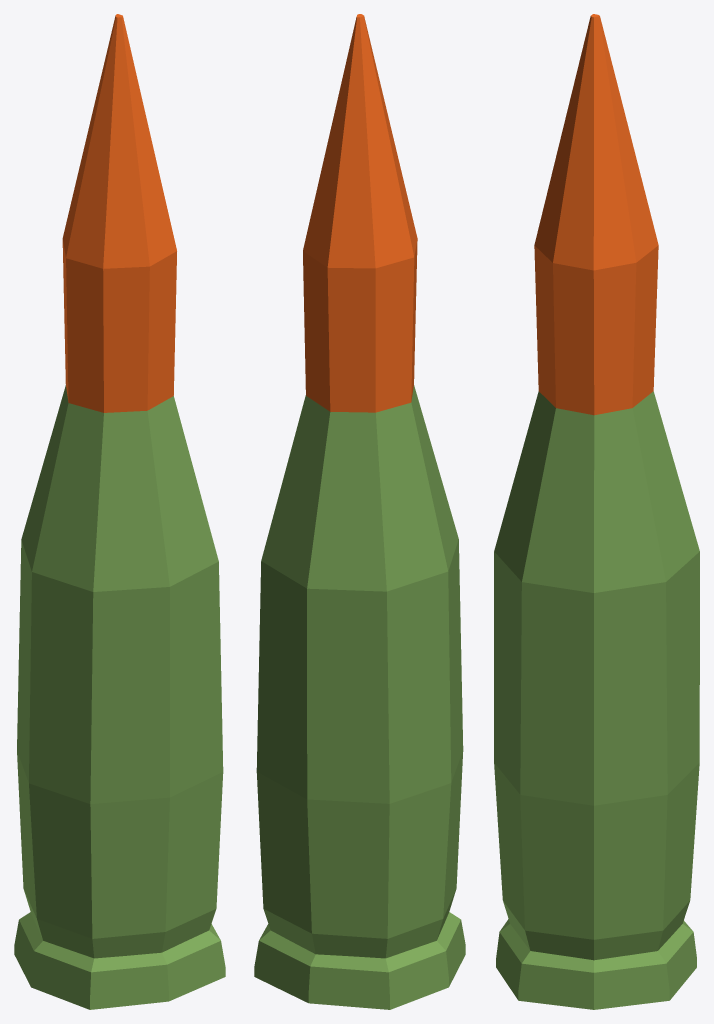
The model's file is machinegunbullet.fbx.
The picture shows the model from 3 angles, left to right: view 1: azimuth 30°, elevation 25°; view 2: azimuth 150°, elevation 25°; view 3: azimuth 270°, elevation 25°; orthographic projection.
Parts seen in each view (by area): view 1: Cube.001, Cube; view 2: Cube.001, Cube; view 3: Cube.001, Cube.
Part boxes in pixels (left/top/right/bottom): Cube.001: left=14, top=385, right=225, bottom=1009; Cube: left=62, top=14, right=176, bottom=412; Cube.001: left=254, top=385, right=465, bottom=1009; Cube: left=303, top=14, right=417, bottom=412; Cube.001: left=494, top=391, right=699, bottom=1009; Cube: left=534, top=14, right=658, bottom=415.
Size of the model in its own units: 185 by 936 by 184.
